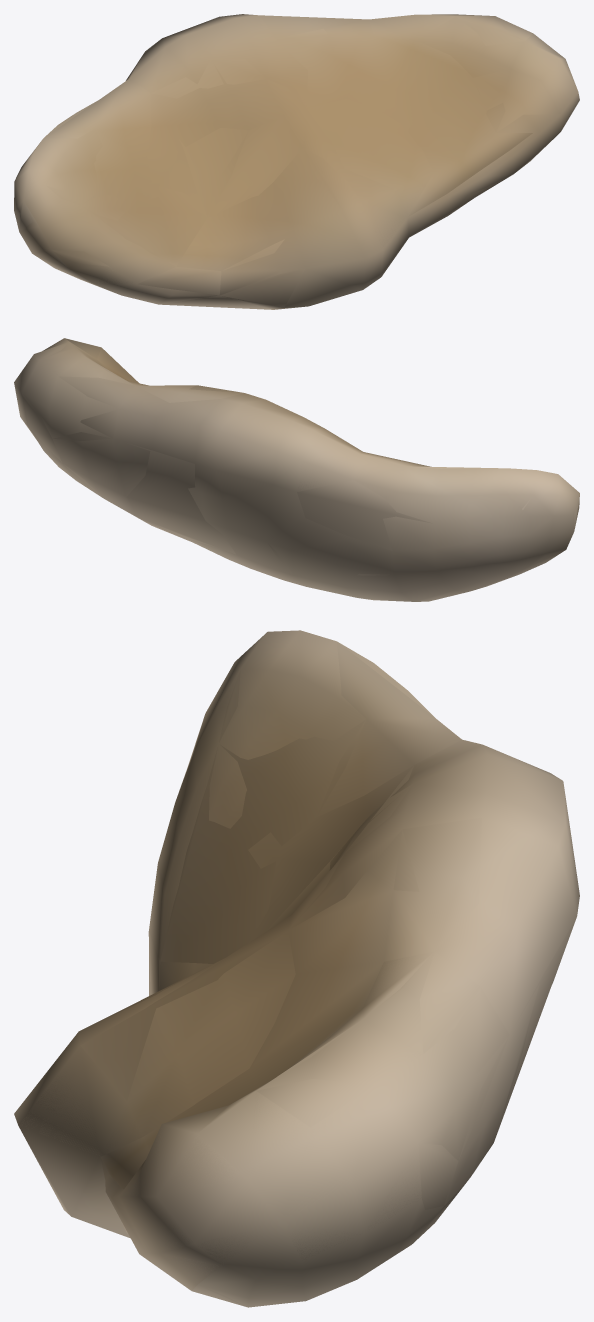
File: FL sesamoidea distale.fbx
The picture shows the model from 3 angles, top to bottom: view 1: azimuth 30°, elevation 25°; view 2: azimuth 150°, elevation 25°; view 3: azimuth 270°, elevation 25°; orthographic projection. The views are drawn at different scales.
Visible parts, largest first — view 1: FL sesamoidea distale, FL sesamoidea distale low; view 2: FL sesamoidea distale, FL sesamoidea distale low; view 3: FL sesamoidea distale, FL sesamoidea distale low.
Part boxes in pixels (bbox=[...]): FL sesamoidea distale: bbox=[14, 14, 579, 309]; FL sesamoidea distale low: bbox=[19, 14, 579, 309]; FL sesamoidea distale: bbox=[14, 338, 579, 601]; FL sesamoidea distale low: bbox=[15, 340, 579, 575]; FL sesamoidea distale: bbox=[14, 630, 579, 1307]; FL sesamoidea distale low: bbox=[20, 635, 576, 1306].
Bounding box in the file's own units: 3.84 × 1.49 × 1.72.
Materials: 1 (1 with a texture image).
